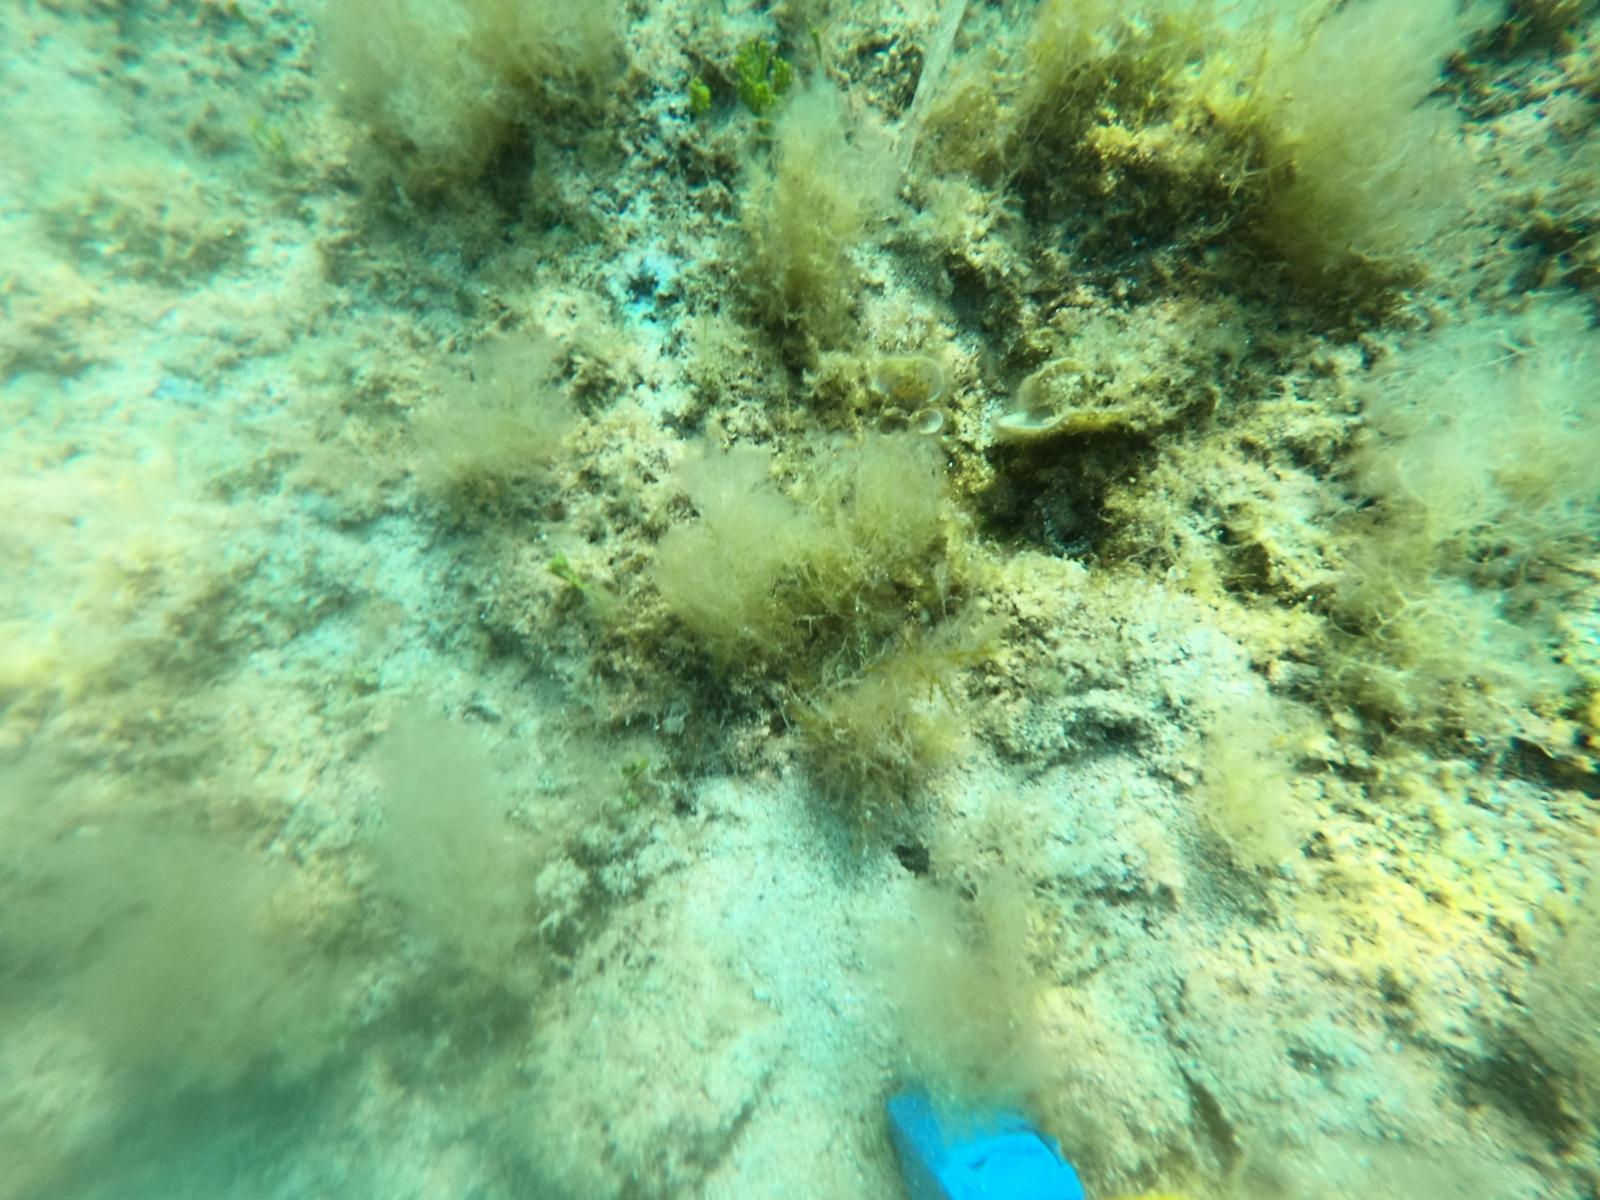halimeda: (736, 29, 792, 130), (549, 555, 590, 596), (682, 78, 717, 116)
